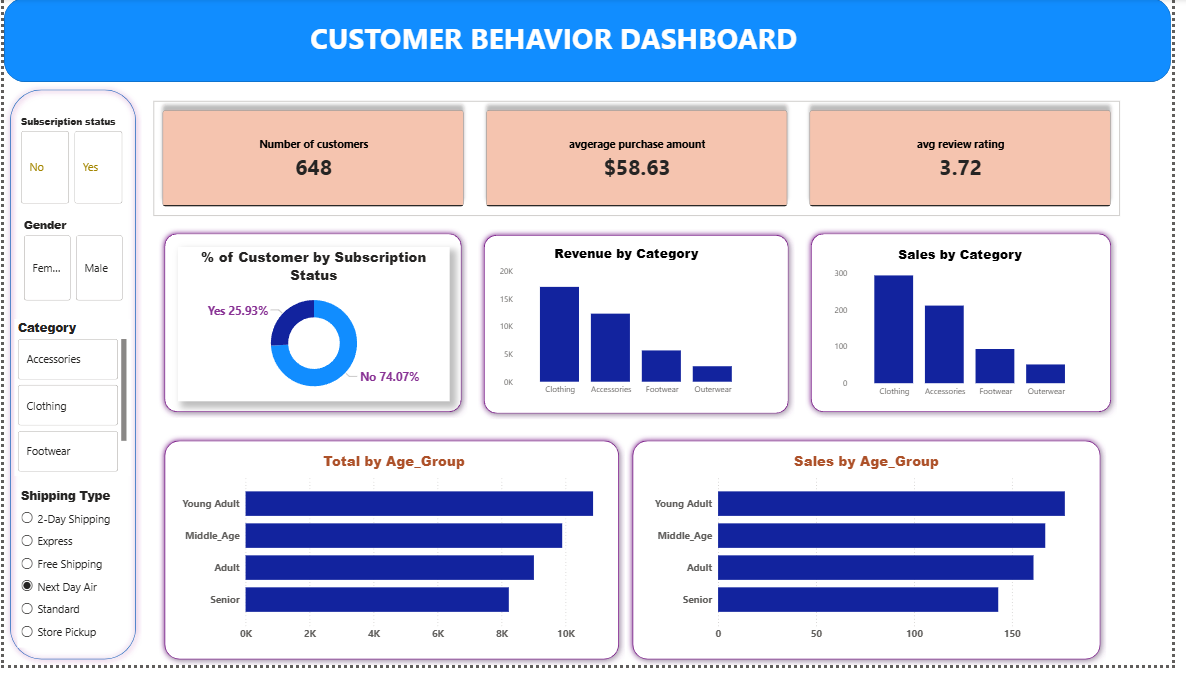

The dashboard page shown, as its layout file describes it:
{"tool":"powerbi","page":{"name":"Page 1","canvas":[1750,1000],"ordinal":0},"visuals":[{"type":"cardVisual","fields":{"Data":["customer_sales.Number of customers","customer_sales.avgerage purchase amount","customer_sales.avg review rating"]},"box":[206.9,137.2,1484.3,206.9],"z":0},{"type":"shape","box":[0,0,1749.7,125.9],"z":1000},{"type":"textbox","box":[0,24.7,1648.5,101.2],"z":2000},{"type":"shape","box":[231.6,344.1,463.3,285.6],"z":3000},{"type":"donutChart","title":"% of Customer by  Subscription Status","fields":{"Y":["CountNonNull(customer_sales.customer_id)"],"Category":["customer_sales.subscription_status"]},"box":[260.9,373.3,407.1,231.6],"z":4000},{"type":"shape","box":[710.7,346.3,474.5,285.6],"z":5000},{"type":"shape","box":[1200.9,344.1,467.8,285.6],"z":6000},{"type":"columnChart","title":"Revenue by Category","fields":{"Y":["Sum(customer_sales.purchase_amount)"],"Category":["customer_sales.category"]},"box":[737.6,368.8,391.3,236.1],"z":7000},{"type":"columnChart","title":"Sales by Category","fields":{"Category":["customer_sales.category"],"Y":["CountNonNull(customer_sales.customer_id)"]},"box":[1239.2,371.1,389.1,236.1],"z":8000},{"type":"shape","box":[0,128.2,206.9,872.6],"z":9000},{"type":"advancedSlicerVisual","title":"Subscription status","fields":{"Values":["customer_sales.subscription_status"]},"box":[20.7,175.9,163.5,138.6],"z":10000},{"type":"advancedSlicerVisual","title":"Gender","fields":{"Values":["customer_sales.gender"]},"box":[24.8,329,159.3,130.3],"z":11000},{"type":"advancedSlicerVisual","title":"Category","fields":{"Values":["customer_sales.category"]},"box":[15.7,481.3,173.2,233.9],"z":12000},{"type":"listSlicer","title":"Shipping Type","fields":{"Values":["customer_sales.shipping_type"]},"box":[20.2,733.2,152.9,240.6],"z":13000},{"type":"shape","box":[231.6,654.4,699.4,346.3],"z":14000},{"type":"clusteredBarChart","title":"Total by Age_Group","fields":{"Category":["customer_sales.age_group"],"Y":["Sum(customer_sales.purchase_amount)"]},"box":[260.9,679.2,647.7,294.6],"z":15000},{"type":"shape","box":[933.3,654.4,719.7,346.3],"z":16000},{"type":"clusteredBarChart","title":"Sales by Age_Group","fields":{"Category":["customer_sales.age_group"],"Y":["Count(customer_sales.customer_id)"]},"box":[969.3,679.2,647.7,294.6],"z":17000}]}

Visuals, with their boxes in screenshot pixels (x1, y1, x2, y2), scaled from the page's 1750x1000 canvas onto the 1186x673 screenshot:
cardVisual - customer_sales.Number of customers x customer_sales.avgerage purchase amount: x1=140 y1=92 x2=1146 y2=232
shape: x1=0 y1=0 x2=1185 y2=85
textbox: x1=0 y1=17 x2=1117 y2=85
shape: x1=157 y1=232 x2=471 y2=424
"% of Customer by  Subscription Status" donutChart: x1=177 y1=251 x2=453 y2=407
shape: x1=482 y1=233 x2=803 y2=425
shape: x1=814 y1=232 x2=1131 y2=424
"Revenue by Category" columnChart: x1=500 y1=248 x2=765 y2=407
"Sales by Category" columnChart: x1=840 y1=250 x2=1104 y2=409
shape: x1=0 y1=86 x2=140 y2=672
"Subscription status" advancedSlicerVisual: x1=14 y1=118 x2=125 y2=212
"Gender" advancedSlicerVisual: x1=17 y1=221 x2=125 y2=309
"Category" advancedSlicerVisual: x1=11 y1=324 x2=128 y2=481
"Shipping Type" listSlicer: x1=14 y1=493 x2=117 y2=655
shape: x1=157 y1=440 x2=631 y2=672
"Total by Age_Group" clusteredBarChart: x1=177 y1=457 x2=616 y2=655
shape: x1=633 y1=440 x2=1120 y2=672
"Sales by Age_Group" clusteredBarChart: x1=657 y1=457 x2=1096 y2=655
